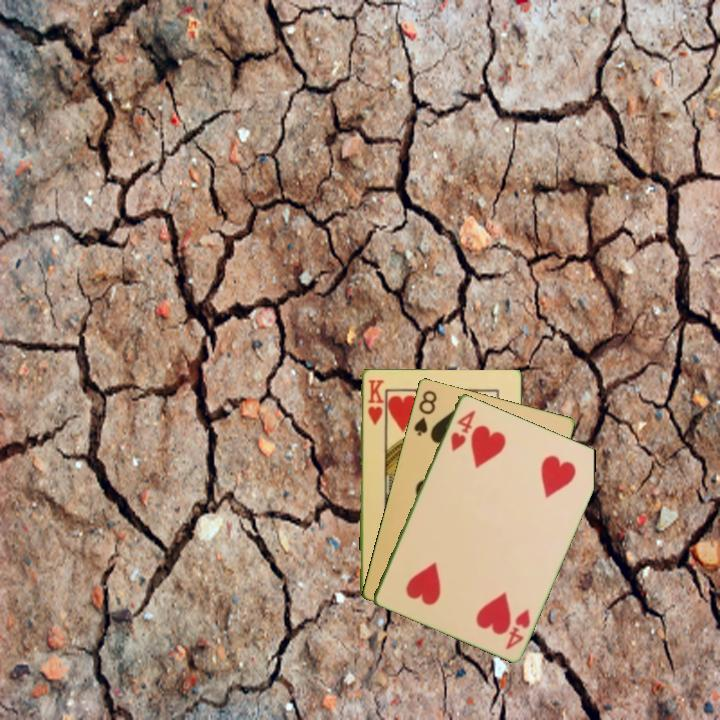4h: (447, 406, 478, 454), (502, 605, 533, 652)
8s: (410, 386, 440, 439)
Kh: (364, 375, 385, 427)
